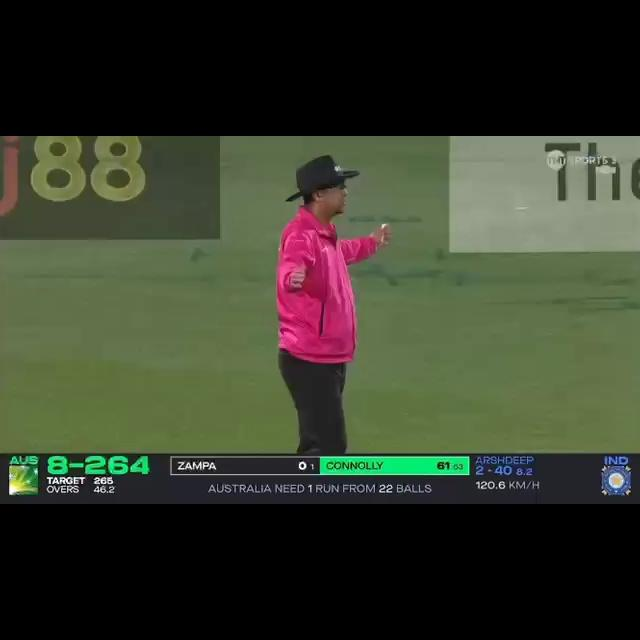umpire: (273, 154, 396, 453)
